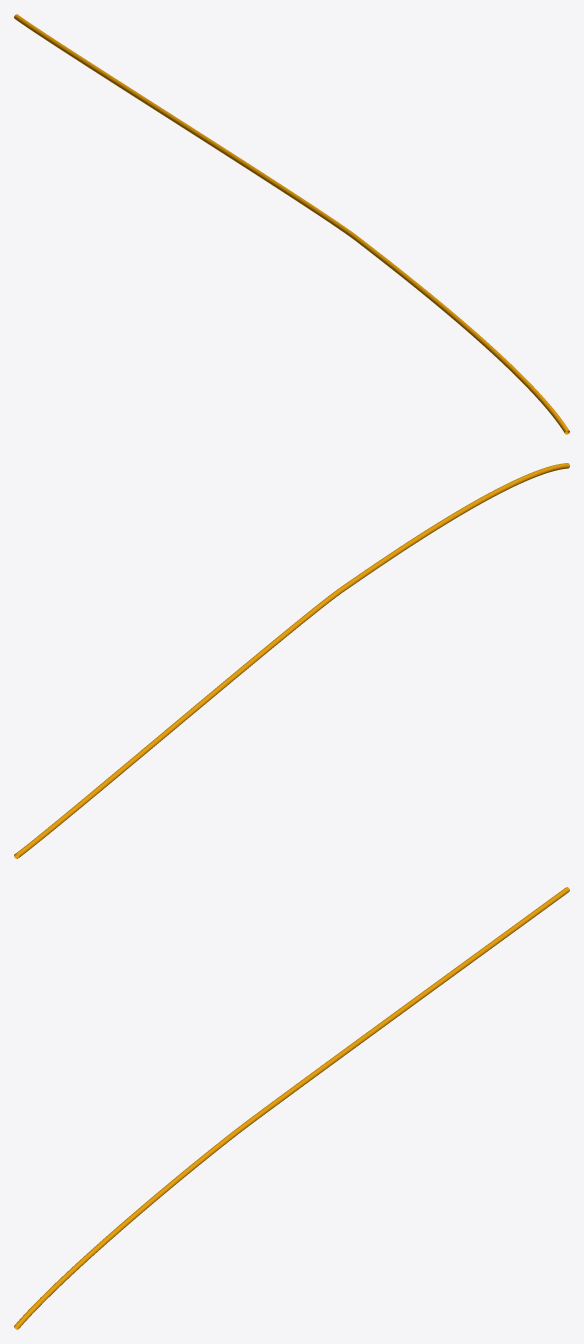
File: cable derecho abajo.fbx
The picture shows the model from 3 angles, top to bottom: view 1: azimuth 30°, elevation 25°; view 2: azimuth 150°, elevation 25°; view 3: azimuth 330°, elevation 25°; orthographic projection. The views are drawn at different scales.
Visible parts, largest first — view 1: BézierCurve.005; view 2: BézierCurve.005; view 3: BézierCurve.005.
Part boxes in pixels (bbox=[...]): BézierCurve.005: bbox=[14, 14, 569, 434]; BézierCurve.005: bbox=[14, 463, 569, 858]; BézierCurve.005: bbox=[14, 887, 569, 1329].
Size of the model in its own units: 16.18 by 33.15 by 784.
